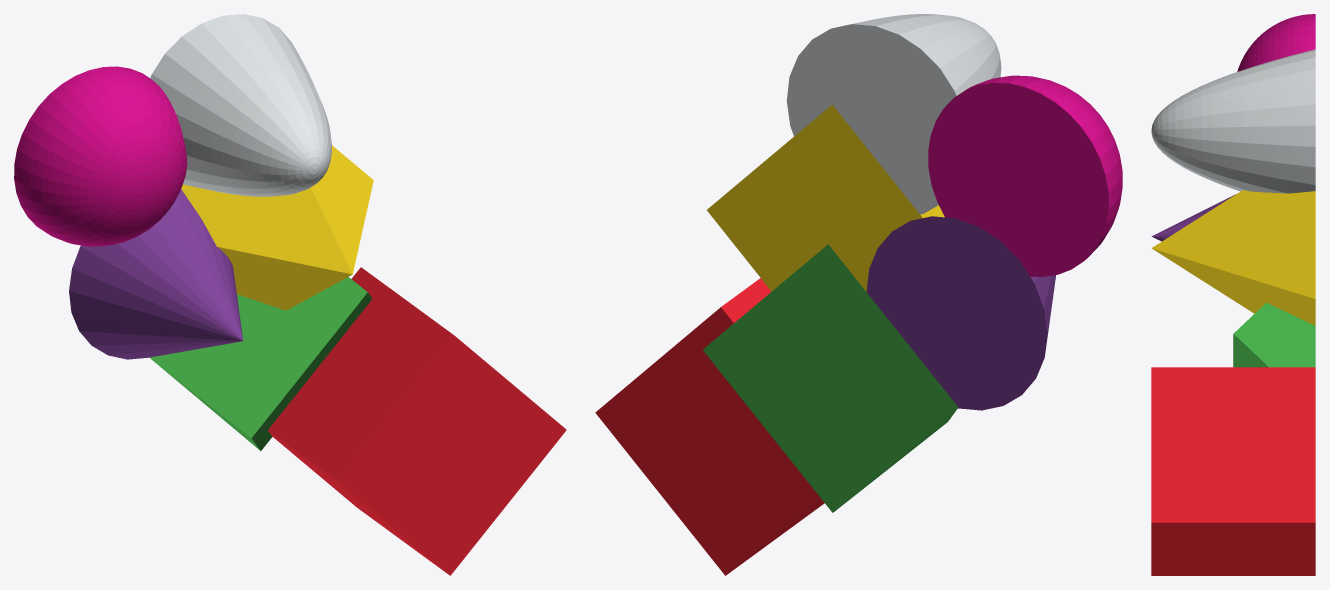
File: tinker.obj
3 renders of one model, left to right at view 1: azimuth 30°, elevation 25°; view 2: azimuth 150°, elevation 25°; view 3: azimuth 270°, elevation 25°, orthographic. The views are drawn at different scales.
Parts seen in each view (by area): view 1: group_0_15277357, group_0_14093196, group_0_14541540, group_0_8273816, group_0_16768282, group_0_4634441; view 2: group_0_4634441, group_0_14093196, group_0_15277357, group_0_8273816, group_0_14541540, group_0_16768282; view 3: group_0_15277357, group_0_14541540, group_0_16768282, group_0_4634441, group_0_14093196, group_0_8273816.
Boxes of the visible parts, bbox=[...] form: group_0_15277357: bbox=[268, 267, 566, 575]; group_0_14093196: bbox=[14, 66, 187, 246]; group_0_14541540: bbox=[150, 14, 331, 196]; group_0_8273816: bbox=[69, 189, 243, 359]; group_0_16768282: bbox=[181, 145, 373, 310]; group_0_4634441: bbox=[150, 277, 372, 450]; group_0_4634441: bbox=[703, 244, 958, 512]; group_0_14093196: bbox=[928, 75, 1122, 276]; group_0_15277357: bbox=[595, 278, 824, 575]; group_0_8273816: bbox=[866, 216, 1055, 410]; group_0_14541540: bbox=[786, 14, 1001, 214]; group_0_16768282: bbox=[707, 104, 944, 291]; group_0_15277357: bbox=[1151, 367, 1315, 575]; group_0_14541540: bbox=[1151, 49, 1315, 193]; group_0_16768282: bbox=[1151, 190, 1315, 325]; group_0_4634441: bbox=[1233, 302, 1315, 367]; group_0_14093196: bbox=[1237, 14, 1315, 71]; group_0_8273816: bbox=[1151, 194, 1235, 241].
Size of the model in its own units: 56.74 by 61.92 by 20.
